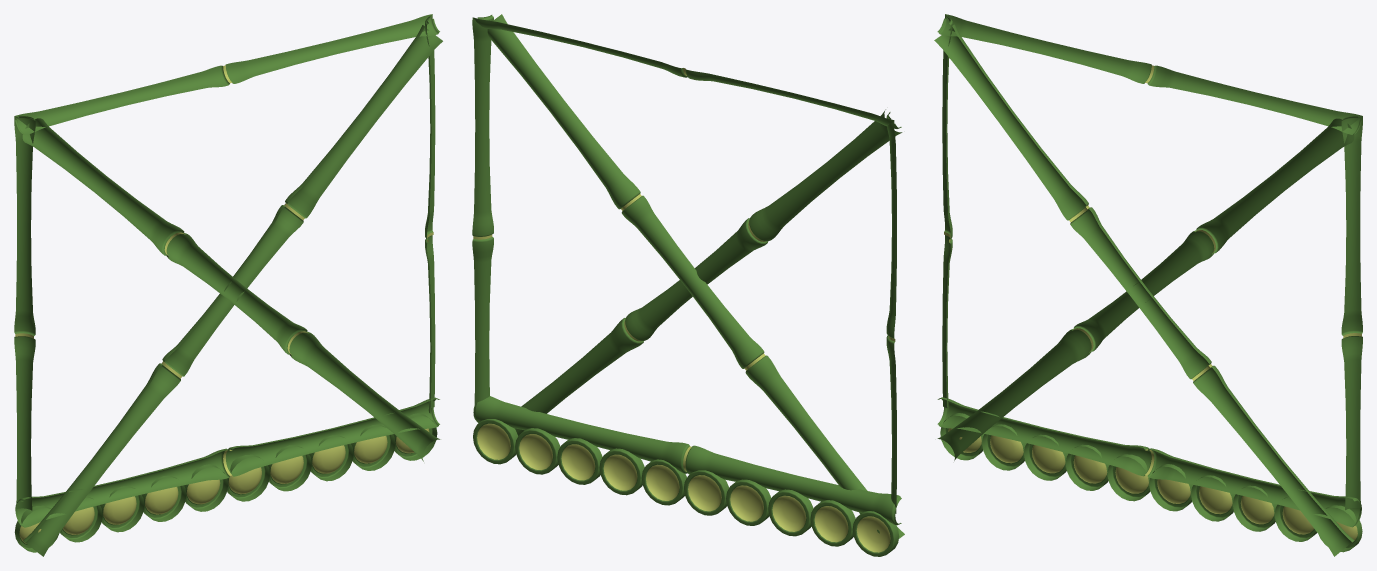
Rendered from Bamboo_Structure_Single_Face.fbx.
The picture shows the model from 3 angles, left to right: view 1: azimuth 30°, elevation 25°; view 2: azimuth 150°, elevation 25°; view 3: azimuth 330°, elevation 25°; orthographic projection.
Visible parts, largest first — view 1: Bamboo_Structure_Single_Face; view 2: Bamboo_Structure_Single_Face; view 3: Bamboo_Structure_Single_Face.
Part boxes in pixels (x1,y1,x2,y2): Bamboo_Structure_Single_Face: [14, 14, 442, 556]; Bamboo_Structure_Single_Face: [472, 14, 904, 556]; Bamboo_Structure_Single_Face: [934, 14, 1362, 556].
Size of the model in its own units: 100 by 100 by 6.14.
